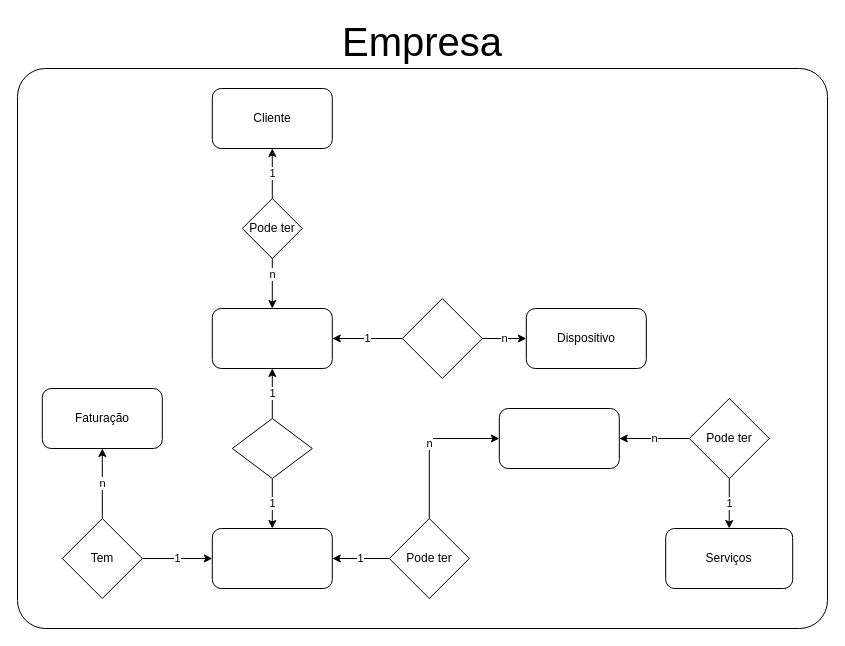
This 845x646 diagram has some shape labels left out. The shapes that lost their labels are listed below. From the top down, each one's centre as x and y in pixels, then its label:
At [271,338]: "Instalações".
At [441,338]: "Tem Vários".
At [271,448]: "É coberto".
At [558,438]: "Contrato Serviço".
At [271,558]: "Contrato".
